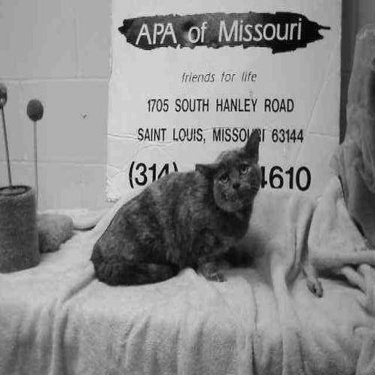cat: (91, 125, 261, 288)
